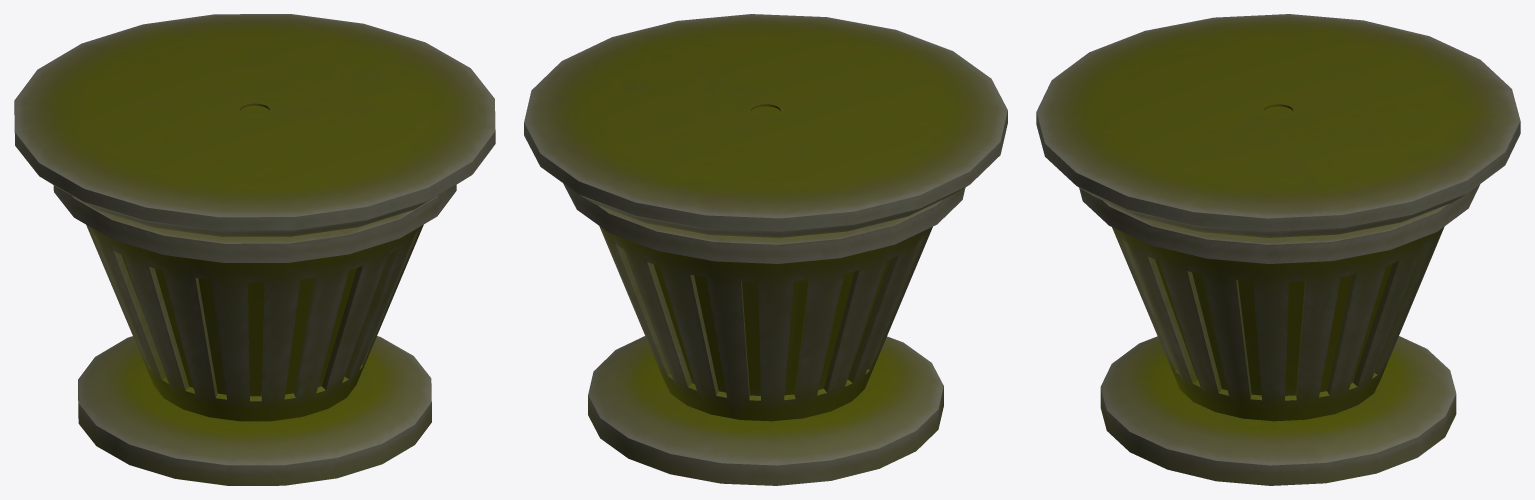
Rendered from Table.fbx.
3 views of the same model, side by side, from view 1: azimuth 30°, elevation 25°; view 2: azimuth 150°, elevation 25°; view 3: azimuth 270°, elevation 25° (orthographic).
Parts seen in each view (by area): view 1: Table; view 2: Table; view 3: Table.
Part boxes in pixels (<box>): Table: <box>14,14,495,485</box>; Table: <box>524,14,1007,485</box>; Table: <box>1036,14,1520,485</box>.
Size of the model in its own units: 100 by 68.58 by 100.
